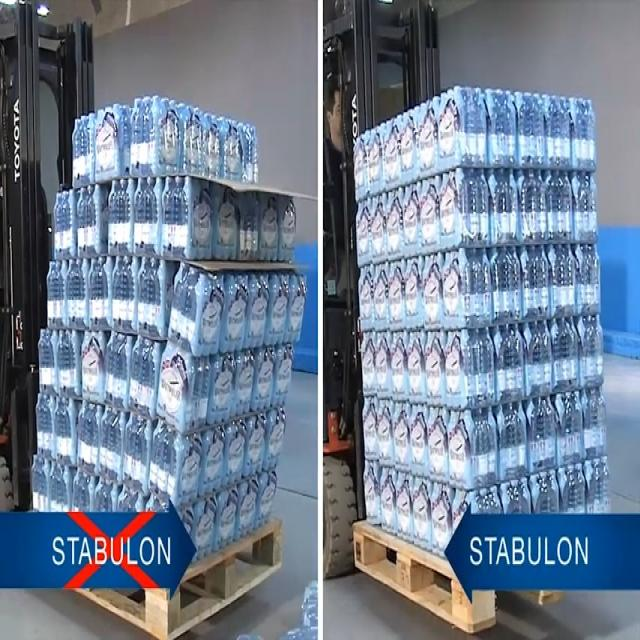Chariot elevateur: (322, 0, 446, 576), (0, 0, 109, 511)
Palette: (65, 518, 292, 638), (345, 517, 491, 640)
